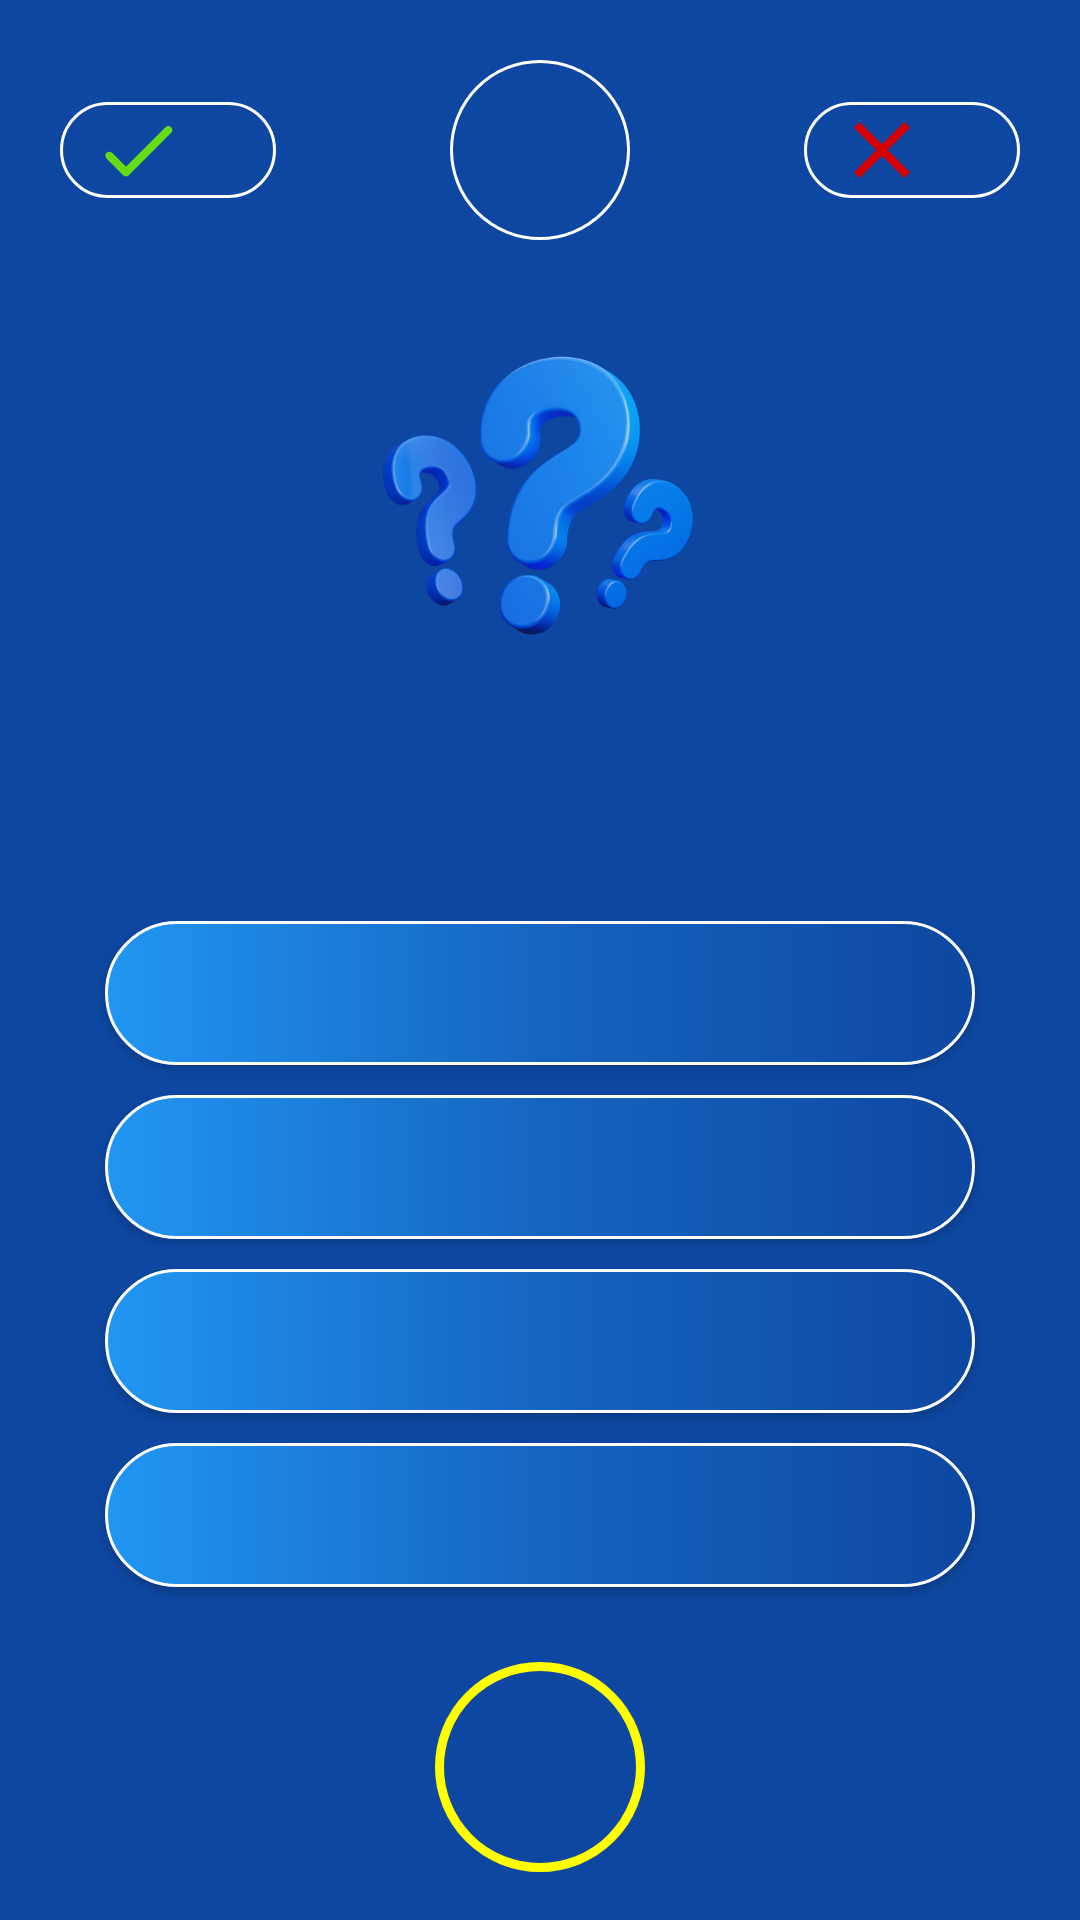

Icons on this 1080 × 1920 Android screen, each with the point to tap as point (x, y):
question mark: point (538, 495)
